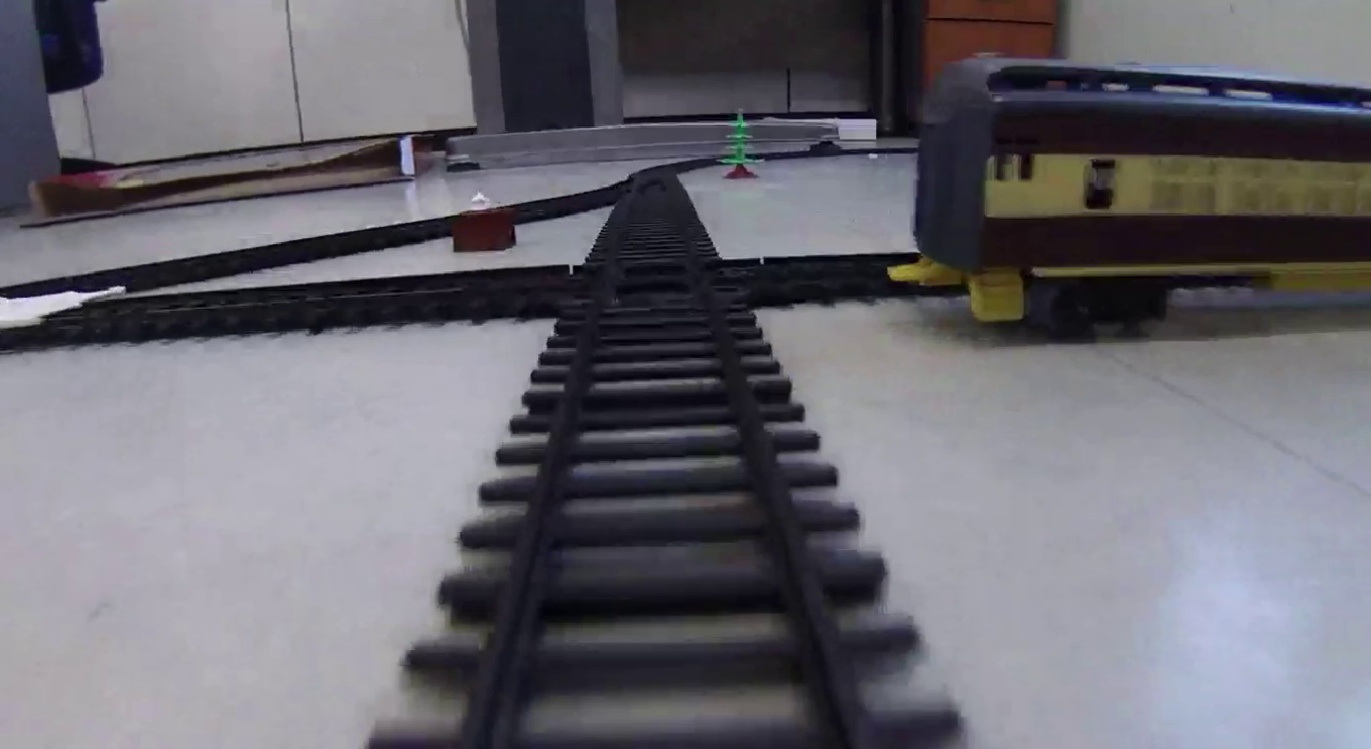box: (454, 208, 521, 253)
tree: (717, 108, 765, 179)
